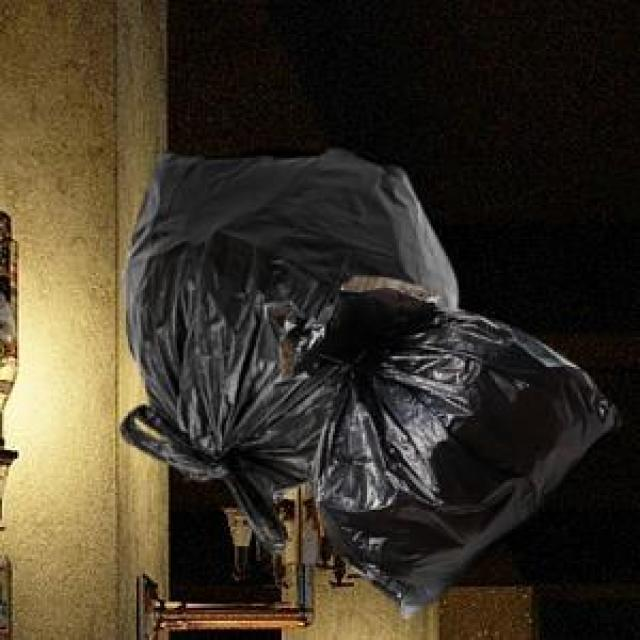miscellaneous trash: (117, 145, 451, 553), (260, 273, 617, 614)
